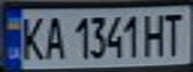1: (66, 14, 90, 61), (121, 11, 142, 57)
3: (87, 12, 109, 60)
4: (106, 12, 124, 60)
A: (39, 12, 69, 61)
H: (139, 10, 169, 57)
K: (15, 12, 48, 62)
T: (160, 9, 190, 57)
